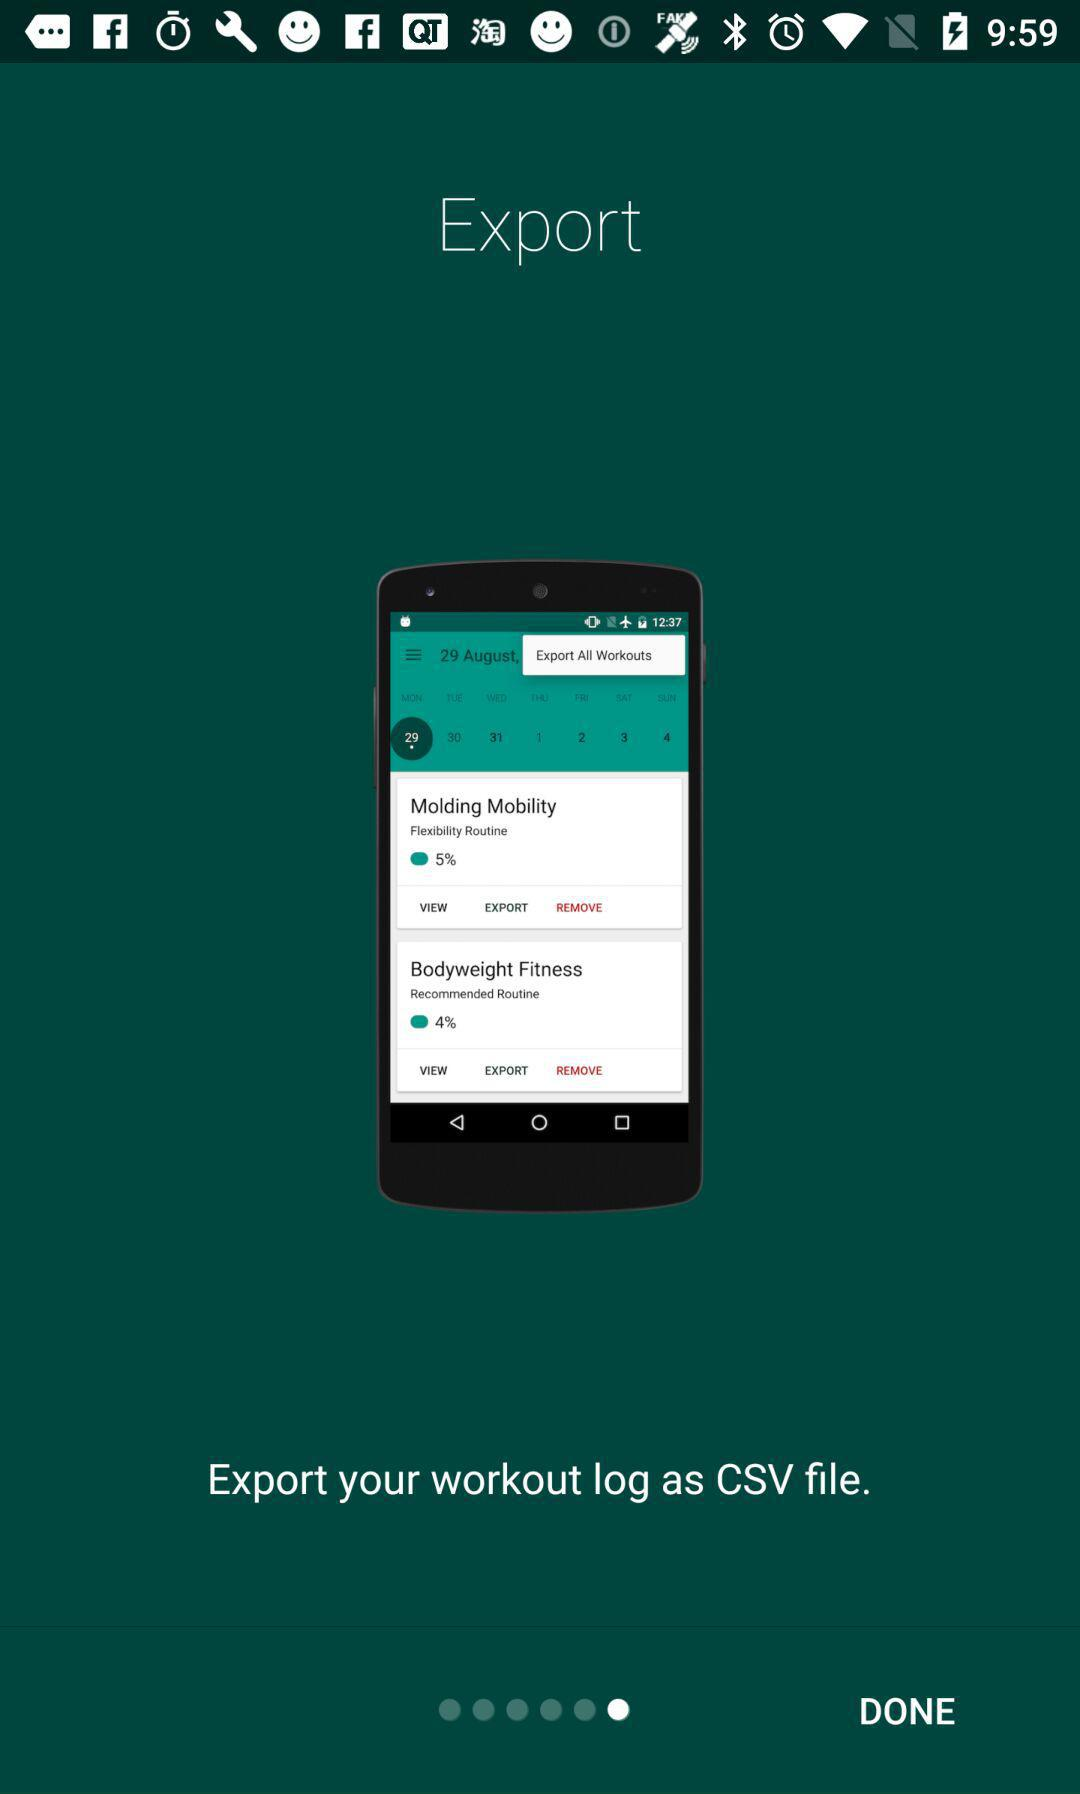Image: (373, 559, 705, 1214)
PageIndicator: (437, 1697, 632, 1724)
Text: (210, 1461, 871, 1504), (441, 197, 642, 268), (860, 1697, 956, 1726)
UpperTaskBar: (1, 1, 1080, 64)
